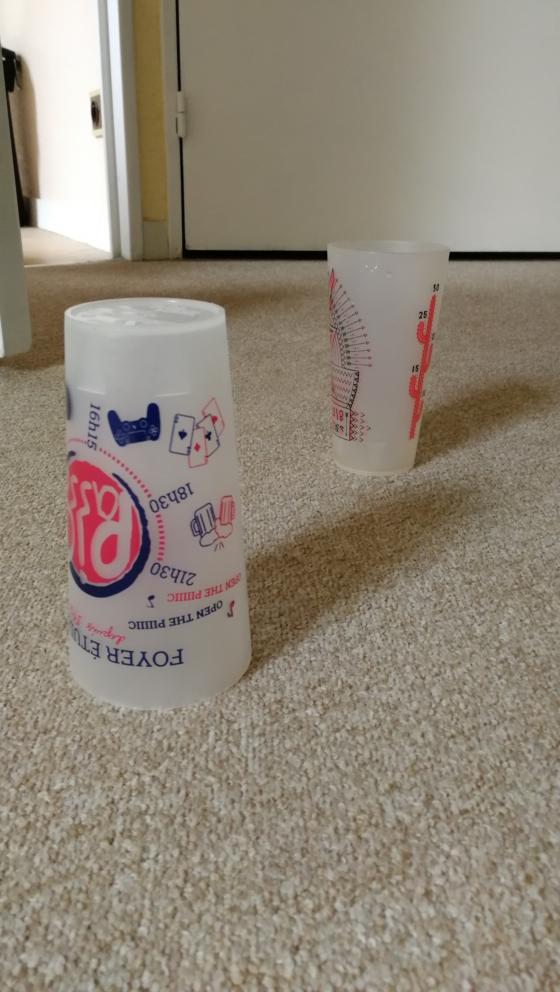ecocup: (63, 295, 253, 711), (327, 240, 450, 475)
